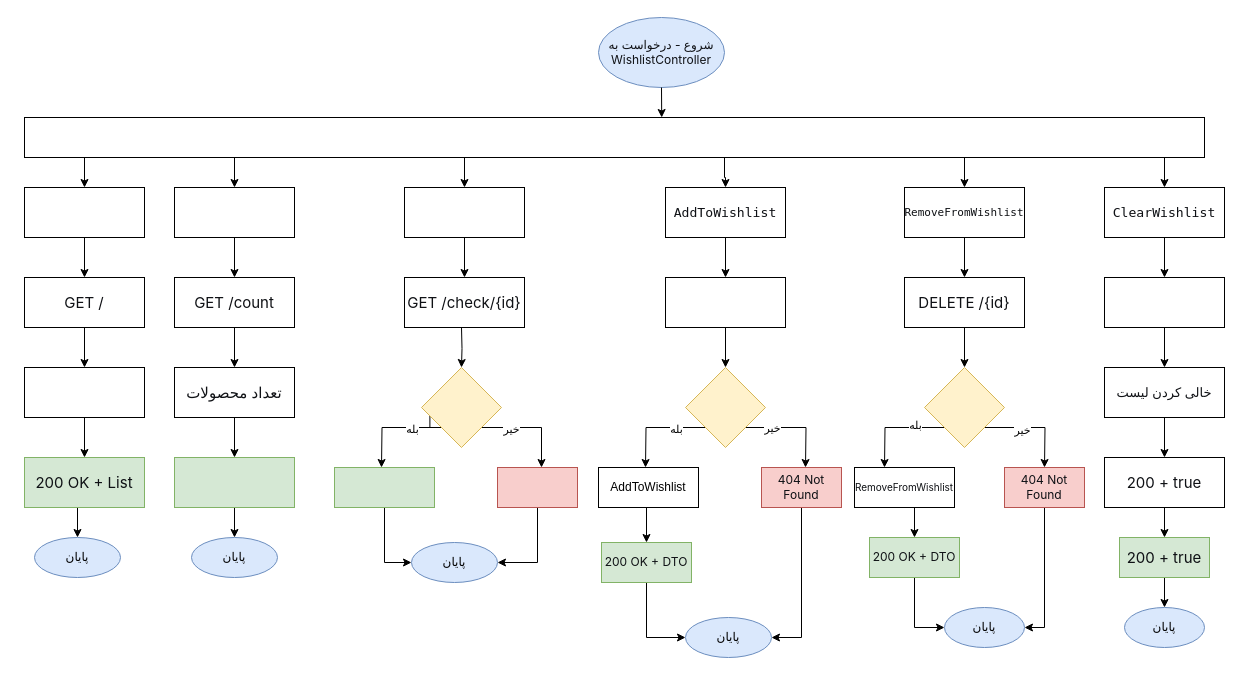
Some shapes in this 1243 by 675 pixel diagram are drawn without their labels. The shapes that lost their labels are listed below. From the top down, each one's centre as x and y in pixels, then its label:
At pixel 614 137: "بررسی HTTP Method + Route".
At pixel 84 212: "GetWishlist".
At pixel 234 212: "GetWishlistCount".
At pixel 464 212: "IsInWishlist".
At pixel 725 302: "POST /".
At pixel 1164 302: "DELETE /".
At pixel 84 392: "مشاهده لیست".
At pixel 461 407: "لیست وجود دارد؟".
At pixel 725 407: "محصول وجود دارد؟".
At pixel 964 407: "محصول در لیست وجود دارد؟".
At pixel 234 482: "200 OK + count".
At pixel 384 487: "true".
At pixel 537 487: "false".
